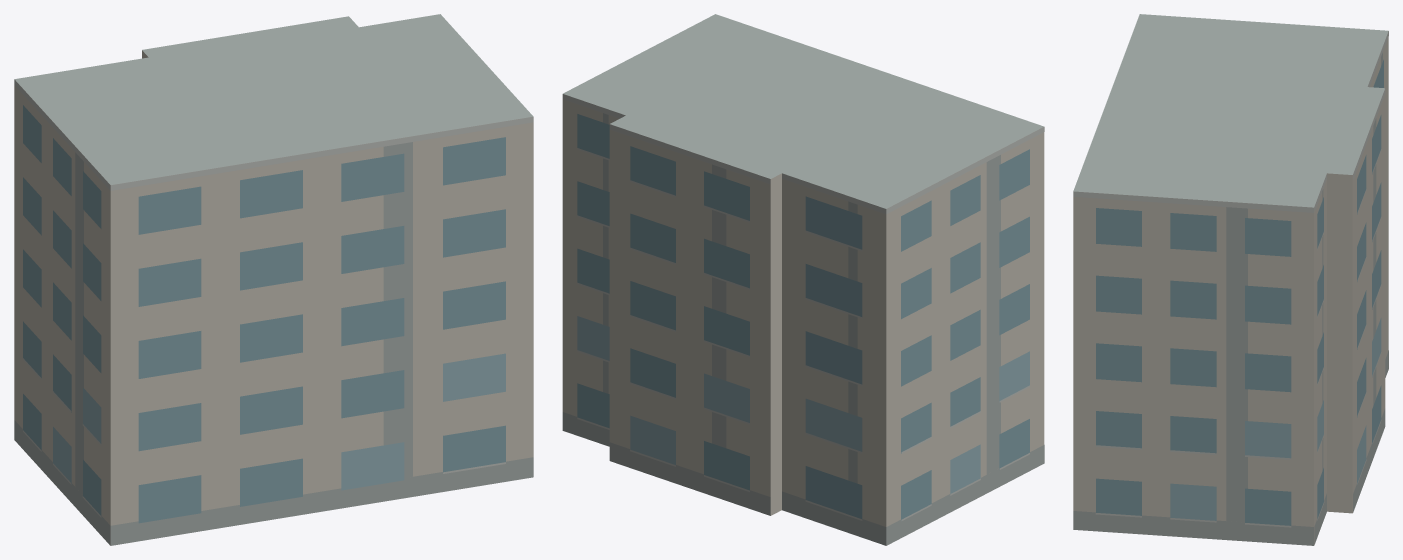
Rendered from residential-5fd90148-1a31-4f8b-874d-ee1d03f0cffd.glb.
The picture shows the model from 3 angles, left to right: view 1: azimuth 30°, elevation 25°; view 2: azimuth 150°, elevation 25°; view 3: azimuth 270°, elevation 25°; orthographic projection. The views are drawn at different scales.
Parts seen in each view (by area): view 1: residential-5fd90148-1a31-4f8b-874d-ee1d03f0cffd.tmp; view 2: residential-5fd90148-1a31-4f8b-874d-ee1d03f0cffd.tmp; view 3: residential-5fd90148-1a31-4f8b-874d-ee1d03f0cffd.tmp.
Boxes of the visible parts, <box> form: residential-5fd90148-1a31-4f8b-874d-ee1d03f0cffd.tmp: <box>14,14,533,545</box>; residential-5fd90148-1a31-4f8b-874d-ee1d03f0cffd.tmp: <box>562,14,1044,545</box>; residential-5fd90148-1a31-4f8b-874d-ee1d03f0cffd.tmp: <box>1073,14,1388,545</box>.
Bounding box in the file's own units: 18.72 × 15.25 × 12.9.
